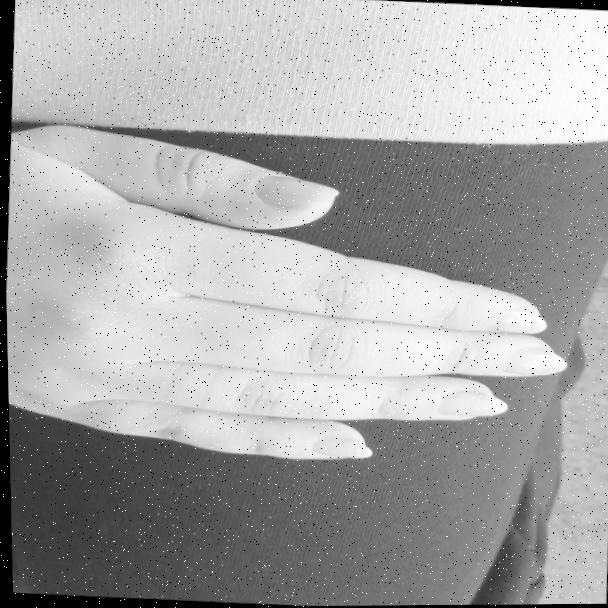five: (14, 125, 580, 485)
